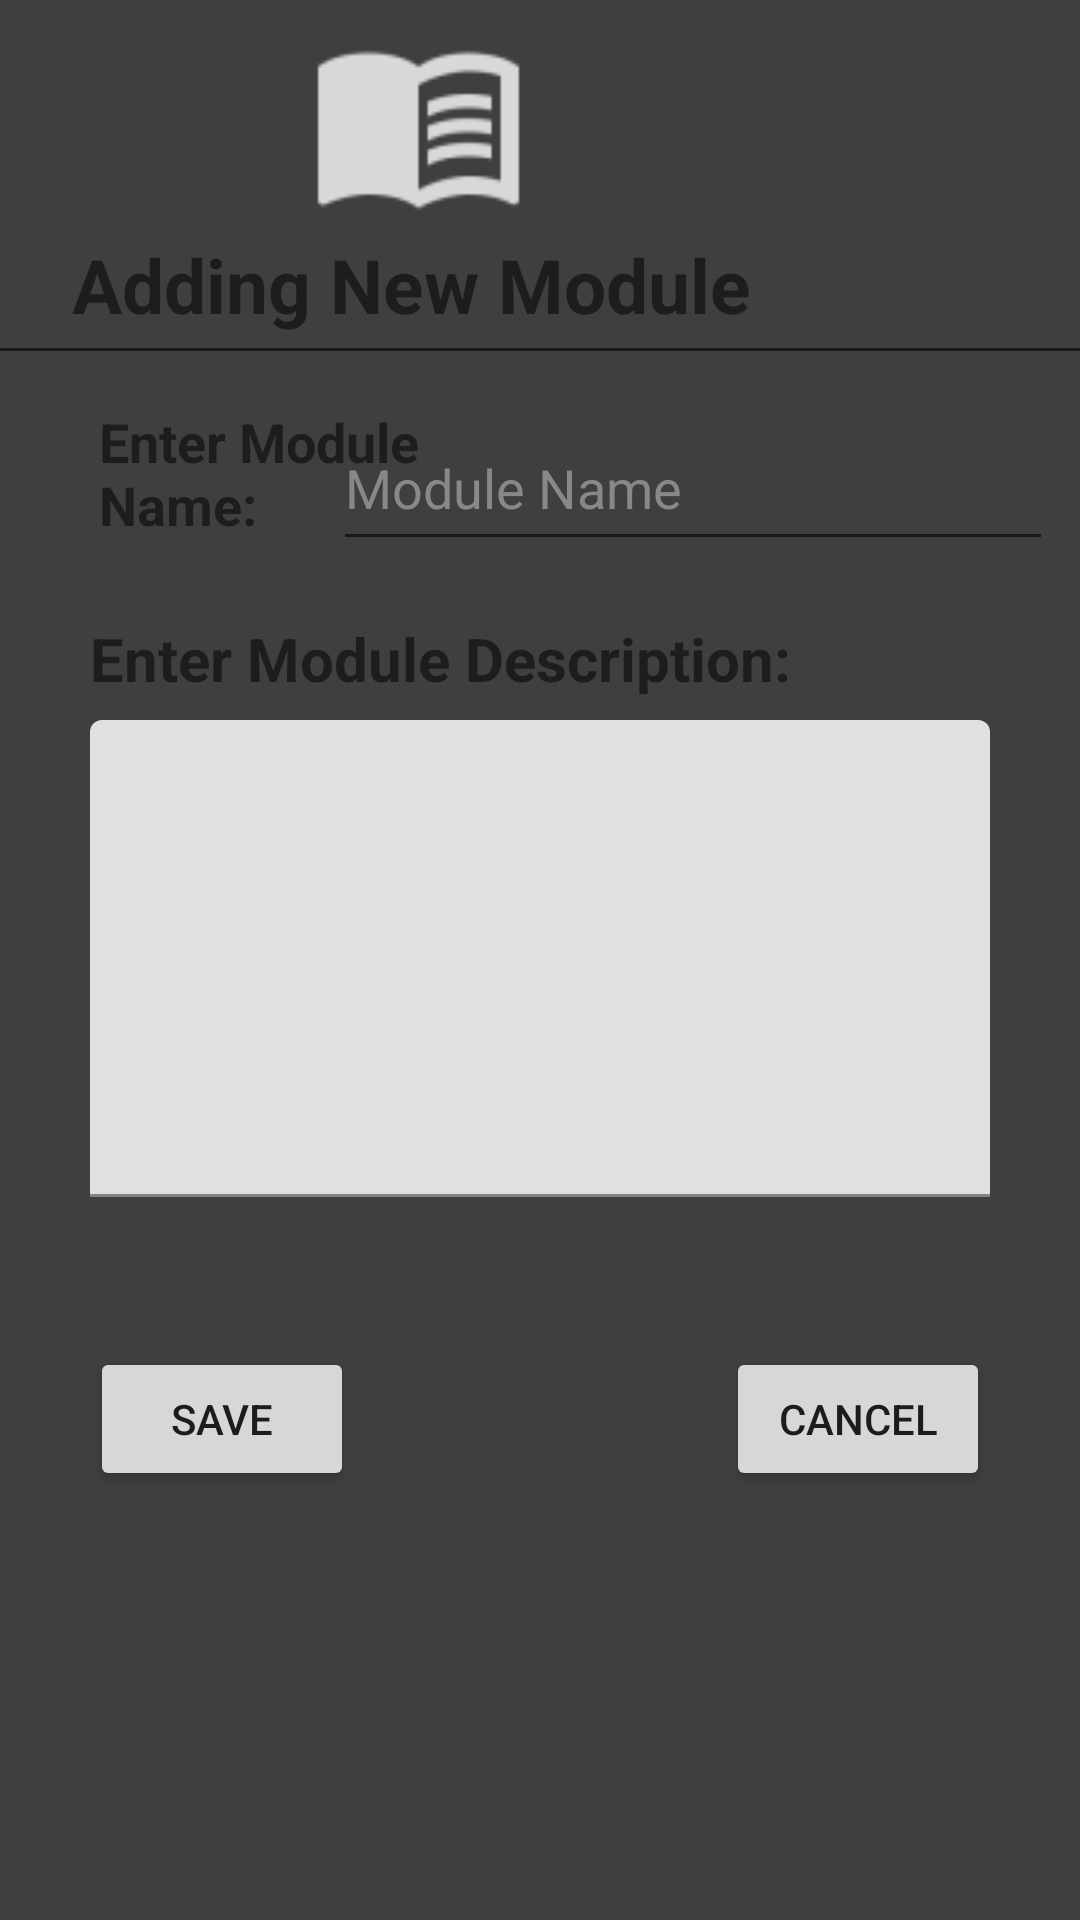

Locate icon controls on the screen. Image size 1080*1920, boxes as rect(x1, y1, x2, y2).
book: rect(317, 51, 520, 209)
